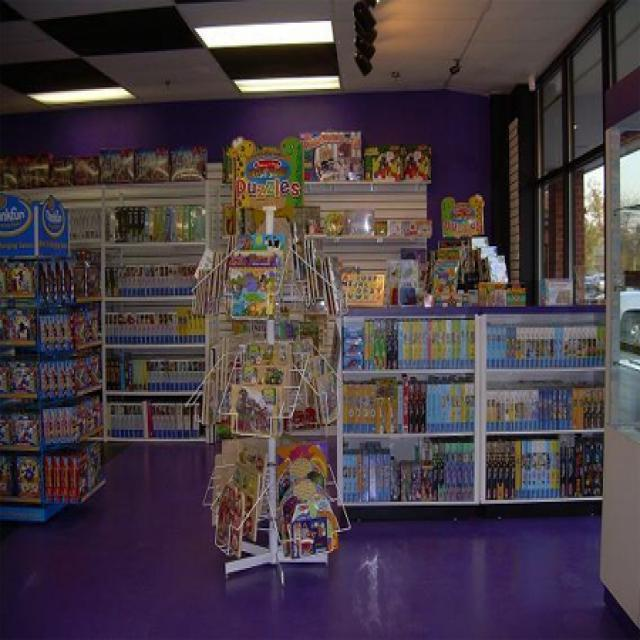2001: (567, 151, 604, 303), (538, 170, 563, 276)
box contants: (44, 437, 101, 500), (297, 125, 363, 178), (168, 146, 208, 176)
boxs: (417, 436, 472, 498), (340, 439, 388, 498), (38, 350, 95, 394)
display stand: (189, 203, 347, 585)
floor -X: (1, 377, 636, 634)
lamp crop: (193, 19, 333, 47), (27, 85, 132, 106), (233, 72, 337, 93), (351, 0, 375, 72)
shelves crop: (3, 178, 428, 439)
stand clothes: (337, 301, 604, 521), (1, 197, 104, 523)
wall clock: (1, 87, 495, 377), (491, 0, 639, 636)
